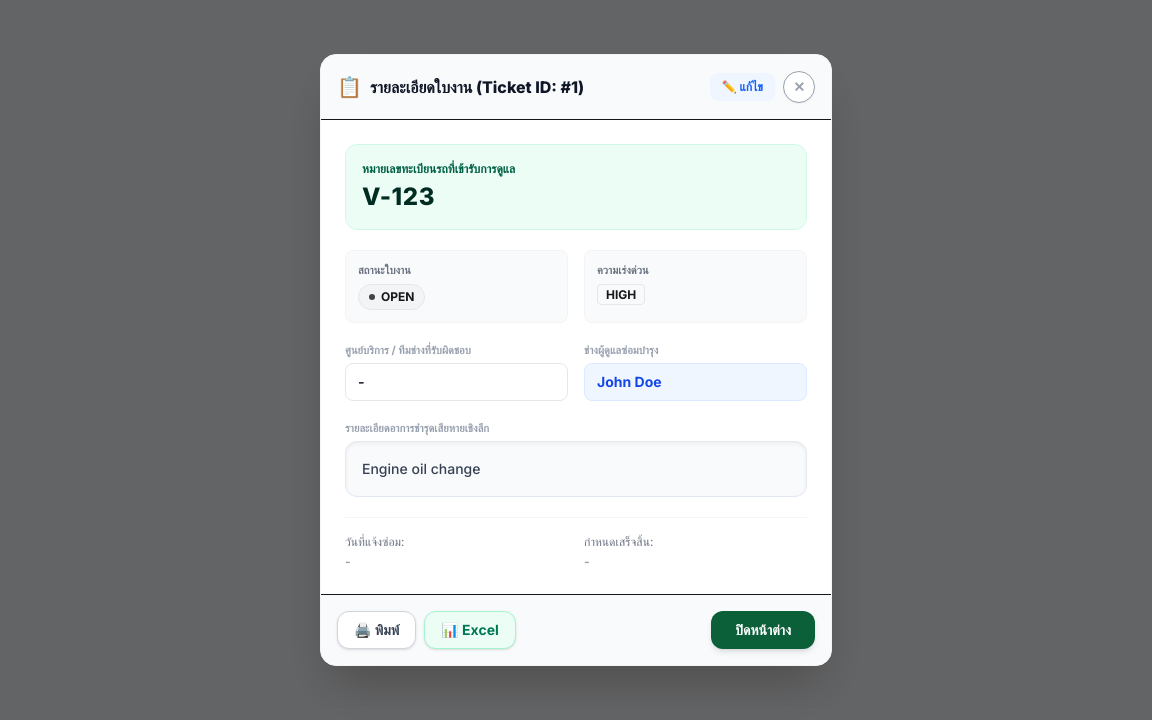
Test case: LogDetailModal › enters edit mode when Edit button is clicked
This screenshot has width=1152, height=720.
# Find edit button
Click the button "✏️ แก้ไข".
click(742, 87)  # box [710,73,775,101]
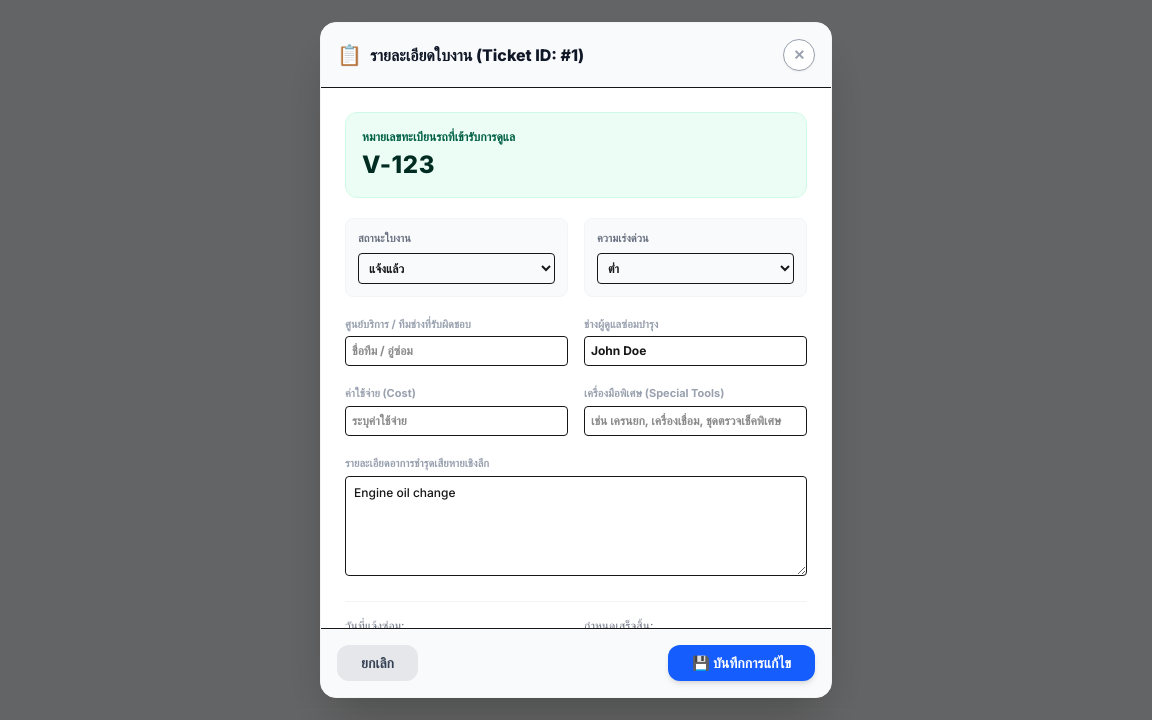
Now the text box holds "Engine oil change", box [345,476,807,576]
